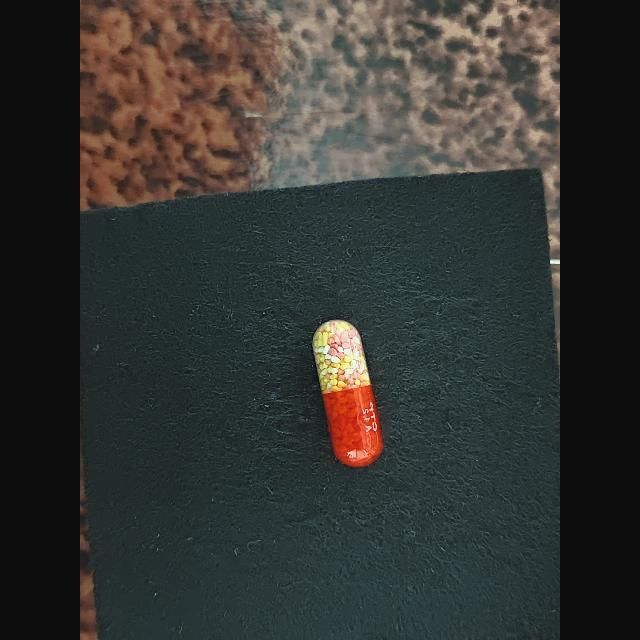Intact Capsule: (312, 319, 384, 467)
